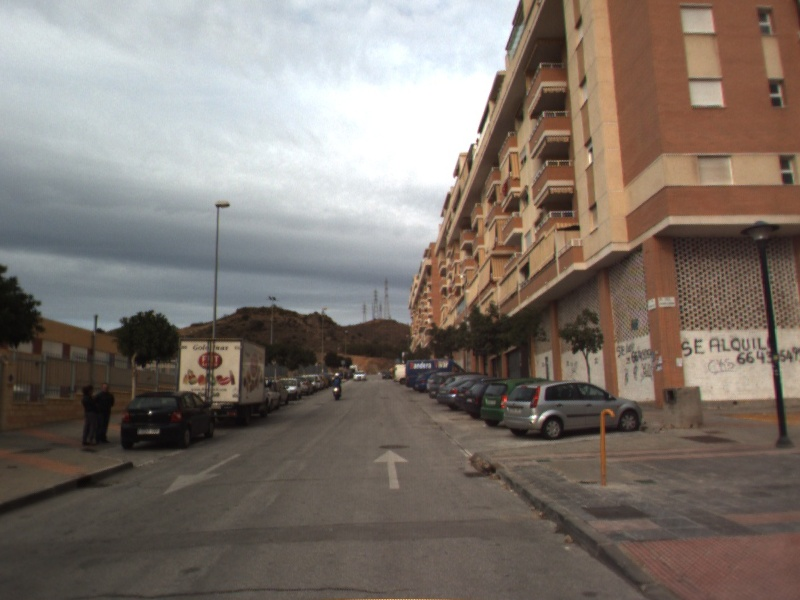STRAIGHT: (371, 447, 411, 491)
